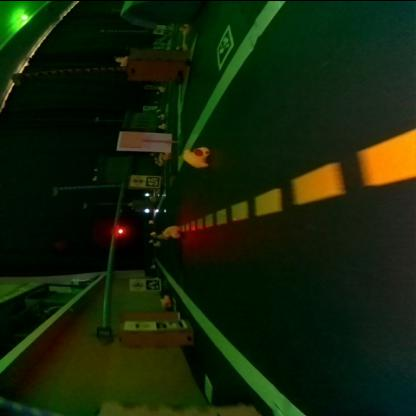Duckie: (182, 144, 210, 166), (162, 224, 180, 236), (114, 55, 126, 65), (159, 294, 171, 304), (174, 42, 186, 48), (154, 158, 162, 164), (151, 230, 158, 236), (158, 122, 166, 127), (157, 113, 165, 118), (148, 219, 155, 224), (154, 240, 160, 244)
Intersection sign: (124, 320, 154, 327), (130, 278, 144, 289)
QR code: (216, 24, 230, 68), (156, 318, 184, 328), (145, 174, 159, 185), (146, 278, 160, 289)
Signal sign: (129, 174, 143, 182)
Traffic light: (110, 225, 126, 234)
